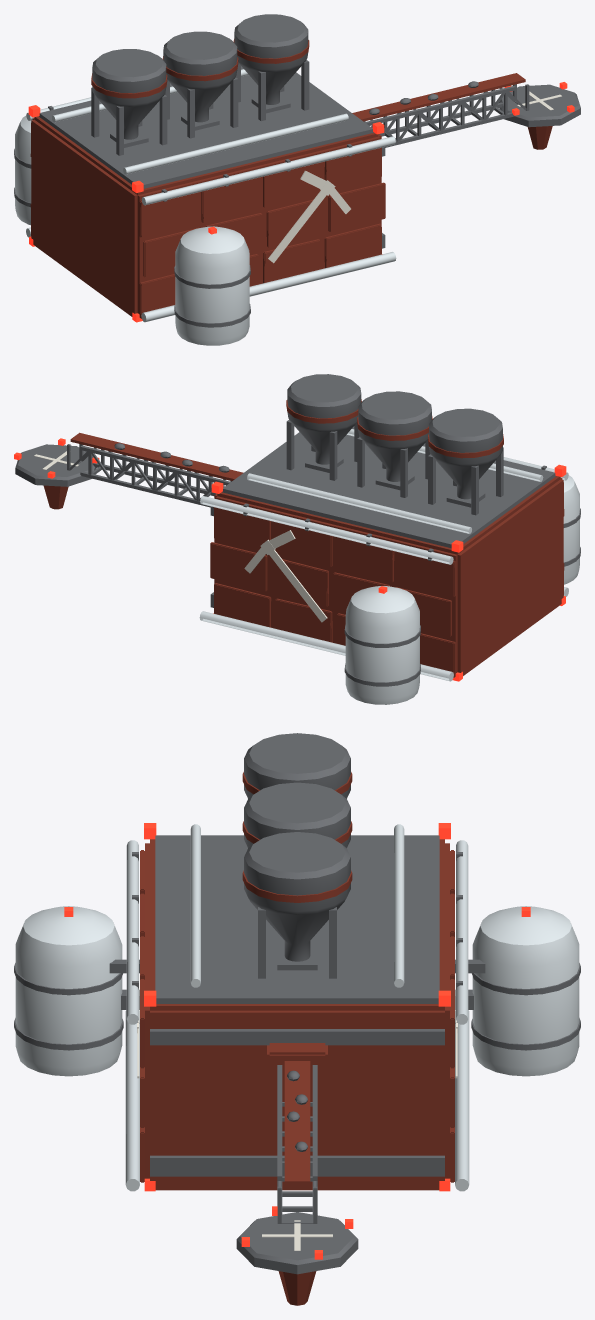
The model's file is refinery.glb.
The picture shows the model from 3 angles, top to bottom: view 1: azimuth 30°, elevation 25°; view 2: azimuth 150°, elevation 25°; view 3: azimuth 270°, elevation 25°; orthographic projection. The views are drawn at different scales.
Parts seen in each view (by area): view 1: refinery_union_rust, refinery_hopper_steel, refinery_frost_white, refinery_pickaxe_paint, refinery_work_light_red; view 2: refinery_union_rust, refinery_hopper_steel, refinery_frost_white, refinery_pickaxe_paint, refinery_work_light_red; view 3: refinery_hopper_steel, refinery_union_rust, refinery_frost_white, refinery_work_light_red, refinery_pickaxe_paint.
Boxes of the visible parts, x1,y1,x2,y2 form: refinery_union_rust: (30, 39, 552, 318); refinery_hopper_steel: (14, 14, 580, 327); refinery_frost_white: (15, 69, 396, 345); refinery_pickaxe_paint: (268, 91, 561, 263); refinery_work_light_red: (28, 82, 574, 322); refinery_union_rust: (43, 399, 564, 677); refinery_hopper_steel: (15, 374, 580, 686); refinery_frost_white: (199, 429, 579, 704); refinery_pickaxe_paint: (34, 451, 327, 622); refinery_work_light_red: (14, 438, 566, 681); refinery_hopper_steel: (14, 733, 580, 1274); refinery_union_rust: (140, 772, 454, 1305); refinery_frost_white: (15, 824, 579, 1191); refinery_work_light_red: (64, 823, 530, 1259); refinery_pickaxe_paint: (137, 974, 457, 1250).
Bounding box in the file's own units: 160 × 65 × 112.
